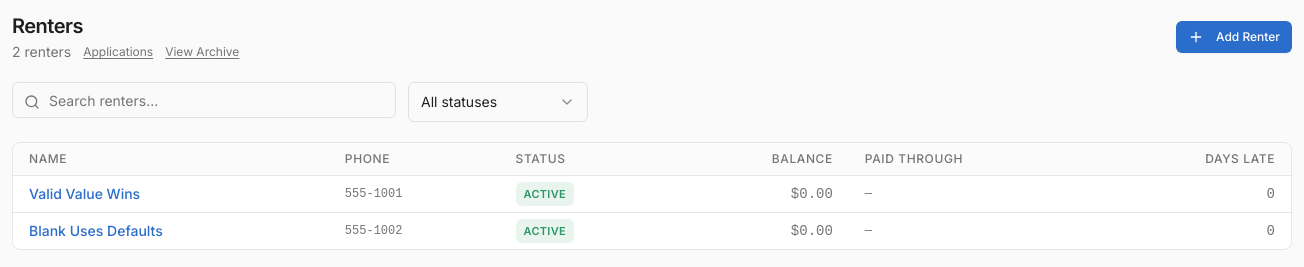
RentersList plan gating › filters renters by standard fields and custom-field values
Type "555-1002" into the field with placeholder "Search renters...".
click(204, 100); type("555-1002")  # box left=12, top=82, right=396, bottom=118
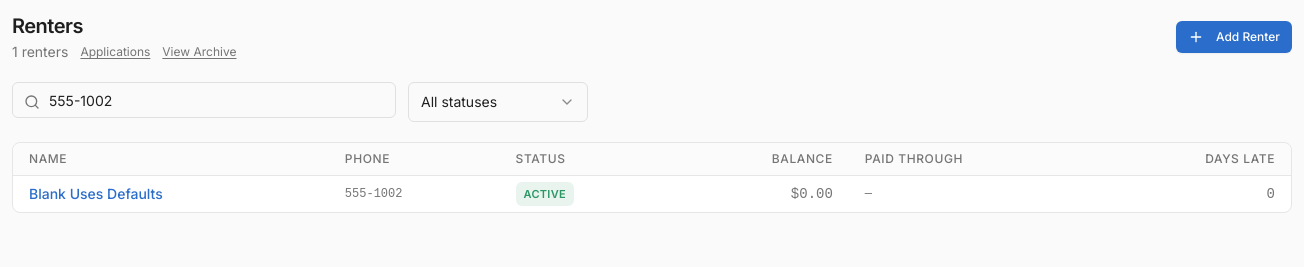
Check: the link "Blank Uses Defaults" is shown, box left=29, top=184, right=163, bottom=202
Check: the link "Valid Value Wins" is gone
Replace the text in the field with placeholder "Search renters..." with "Basement A" at (204, 100), box left=12, top=82, right=396, bottom=118
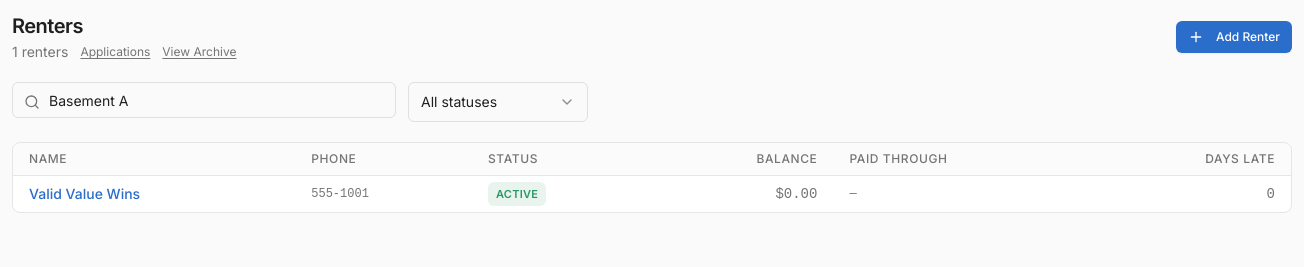
Check: the link "Valid Value Wins" is shown, box left=29, top=184, right=140, bottom=202
Check: the link "Blank Uses Defaults" is gone
